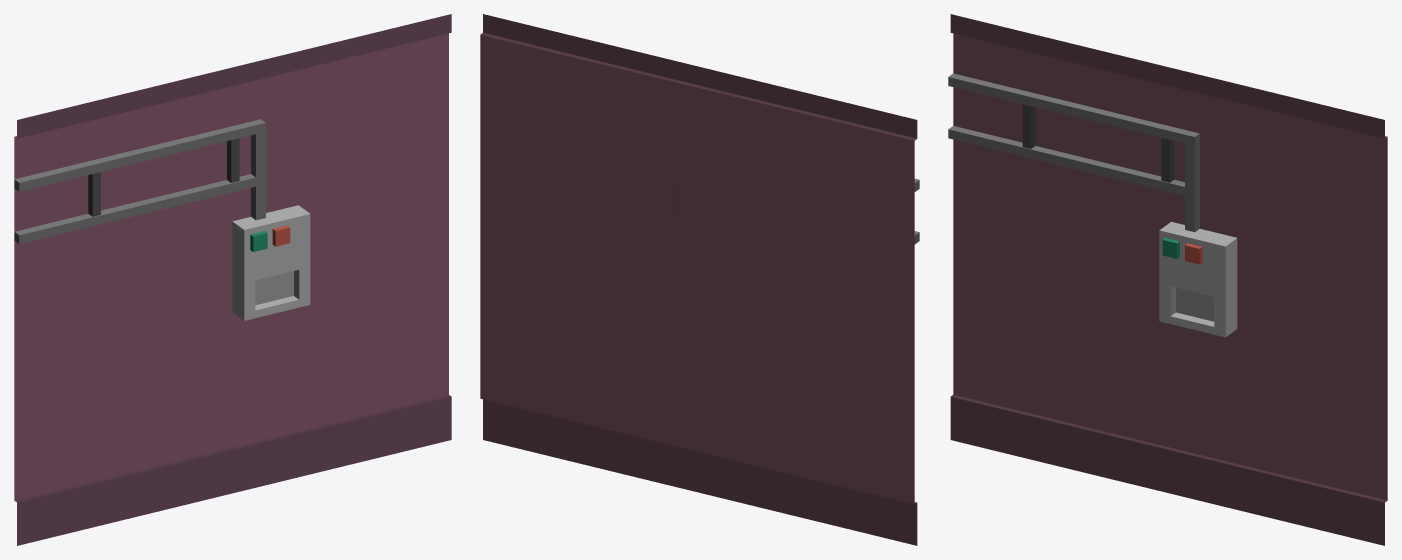
File: AI_Env_Wall_Pink_Electronics_End.fbx
3 renders of one model, left to right at view 1: azimuth 30°, elevation 25°; view 2: azimuth 150°, elevation 25°; view 3: azimuth 330°, elevation 25°, orthographic.
Parts seen in each view (by area): view 1: AI_Env_Wall_Pink_Electronics_End; view 2: AI_Env_Wall_Pink_Electronics_End; view 3: AI_Env_Wall_Pink_Electronics_End.
Part boxes in pixels (x1,y1,x2,y2): AI_Env_Wall_Pink_Electronics_End: (14, 14, 451, 545); AI_Env_Wall_Pink_Electronics_End: (480, 14, 919, 545); AI_Env_Wall_Pink_Electronics_End: (948, 14, 1387, 545).
Size of the model in its own units: 5 by 4.69 by 0.2941.
